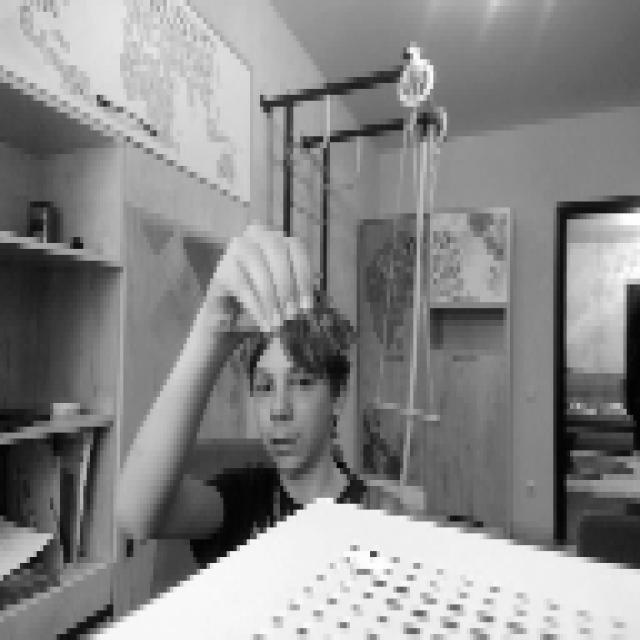left_click: (206, 213, 316, 338)
